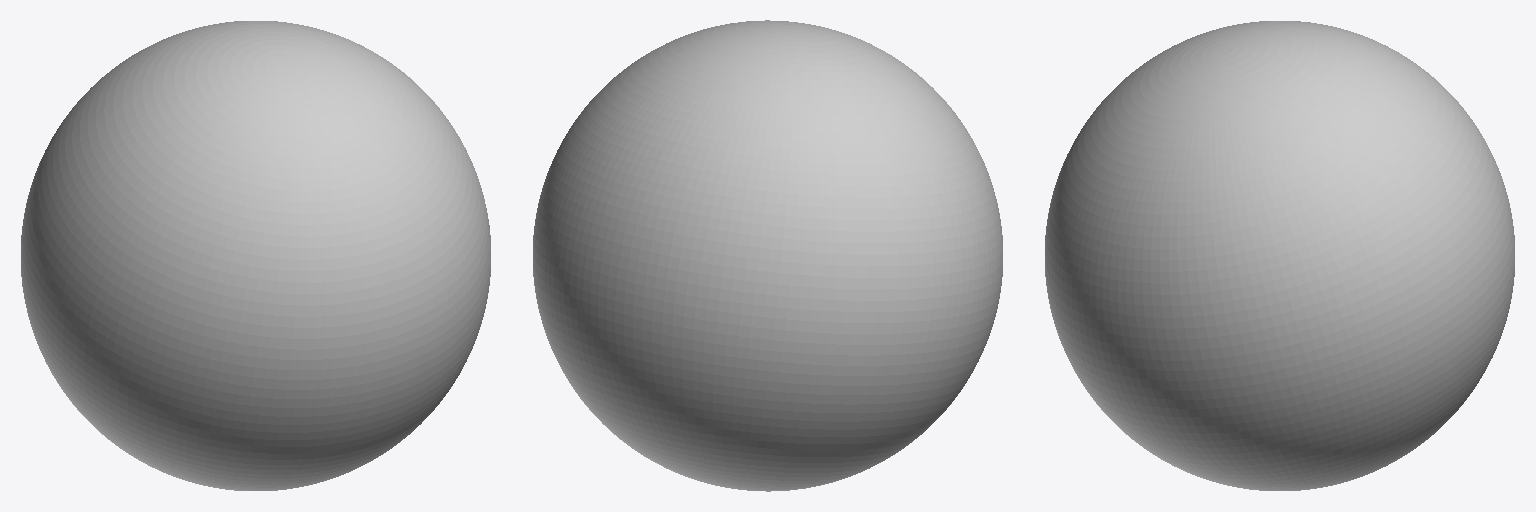
Rendered from Earth obj.obj.
3 views of the same model, side by side, from view 1: azimuth 30°, elevation 25°; view 2: azimuth 150°, elevation 25°; view 3: azimuth 270°, elevation 25° (orthographic).
Parts seen in each view (by area): view 1: Atm_Earth_Diffuse_6K.002; view 2: Atm_Earth_Diffuse_6K.002; view 3: Atm_Earth_Diffuse_6K.002.
Boxes of the visible parts, x1=… form: Atm_Earth_Diffuse_6K.002: x1=21, y1=21, x2=490, y2=490; Atm_Earth_Diffuse_6K.002: x1=533, y1=20, x2=1002, y2=491; Atm_Earth_Diffuse_6K.002: x1=1045, y1=21, x2=1514, y2=490.
Bounding box in the file's own units: 0.6546 × 0.6547 × 0.6547.